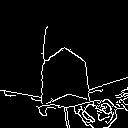cube: (33, 47, 94, 111)
